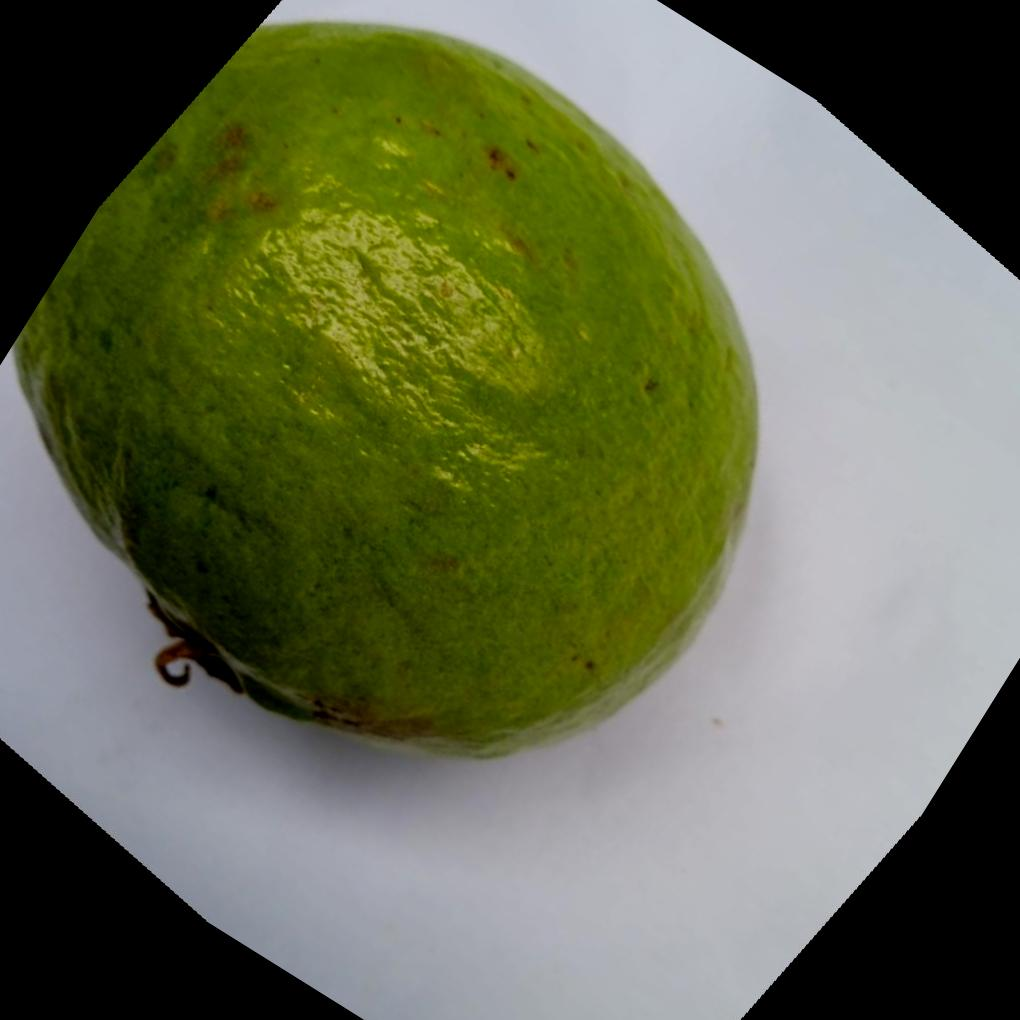FreshGuava: (8, 20, 758, 763)
